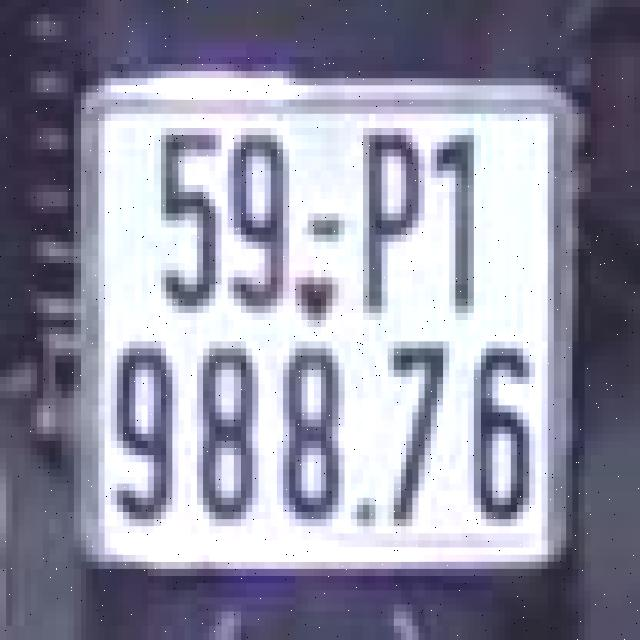1: (424, 110, 504, 324)
5: (142, 125, 228, 316)
6: (471, 330, 538, 530)
7: (382, 331, 456, 537)
8: (194, 334, 268, 534), (280, 331, 348, 537)
9: (104, 330, 184, 530), (228, 118, 295, 324)
P: (354, 114, 428, 320)
